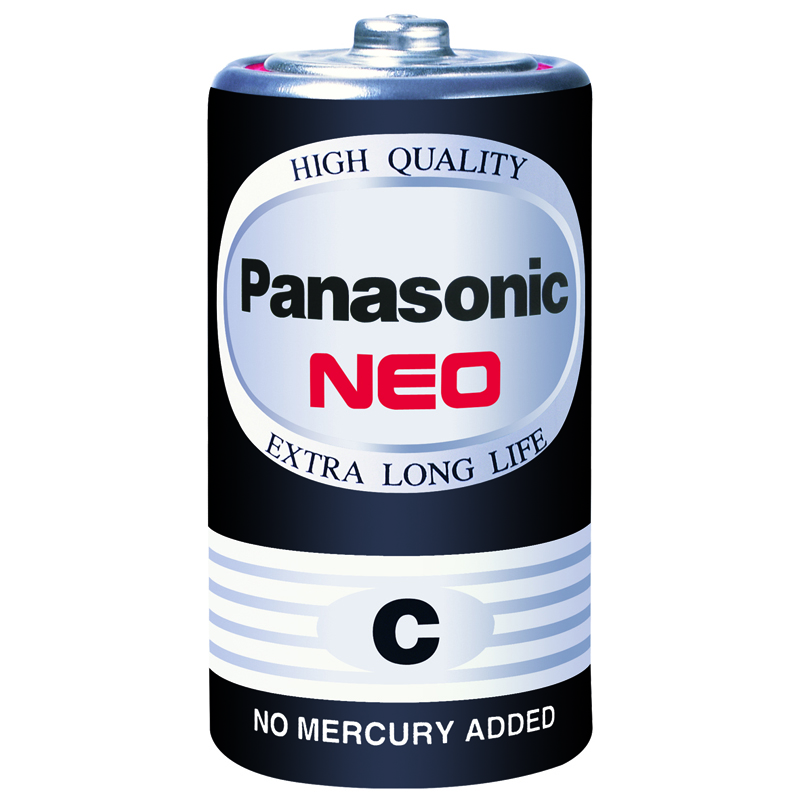Battery: (196, 10, 604, 791)
